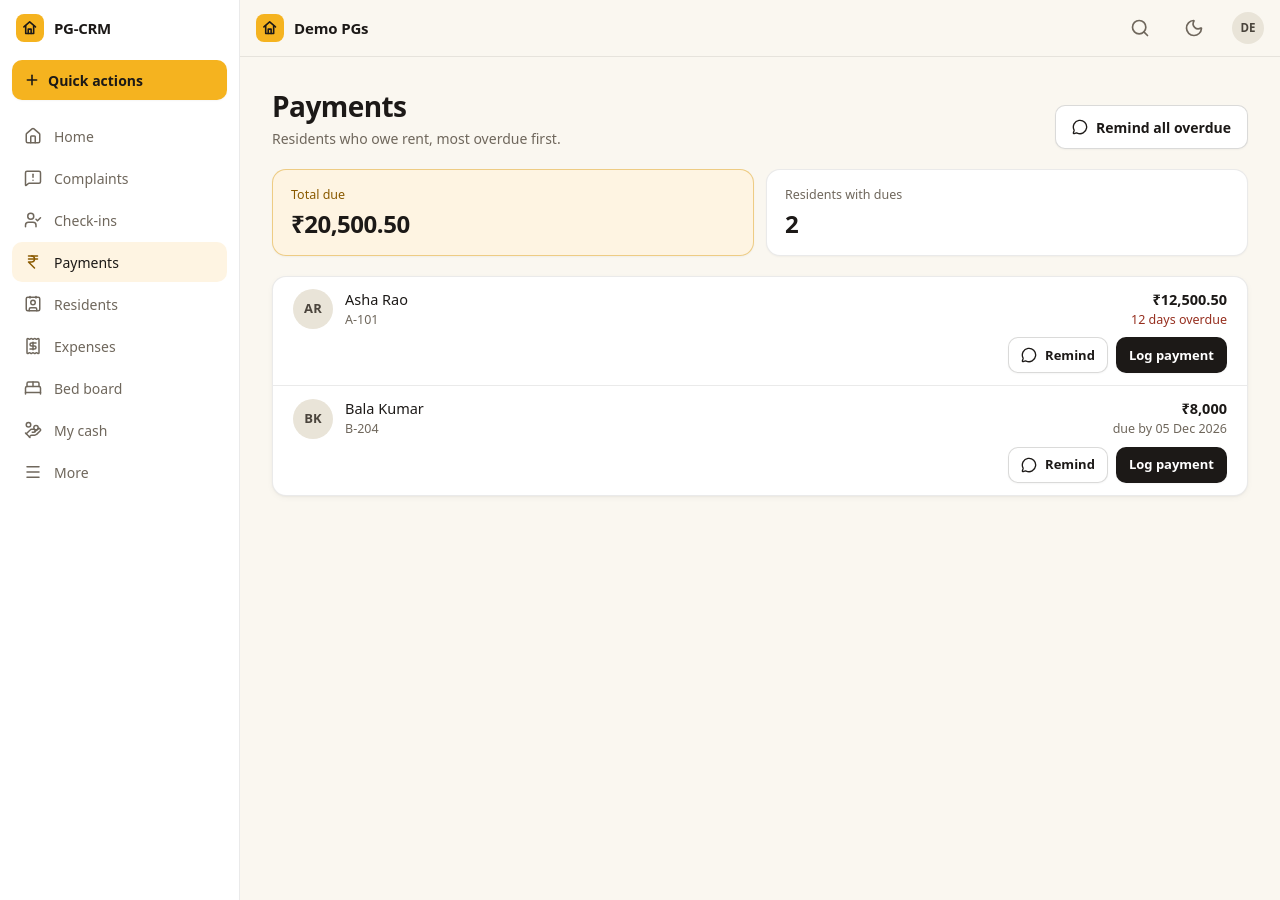
Rent reminders › [FE-33/AC2] Remind all overdue lists overdue residents and marks each as sent
Click the button "Remind all overdue": x=1152, y=127 [1055, 105, 1248, 149]
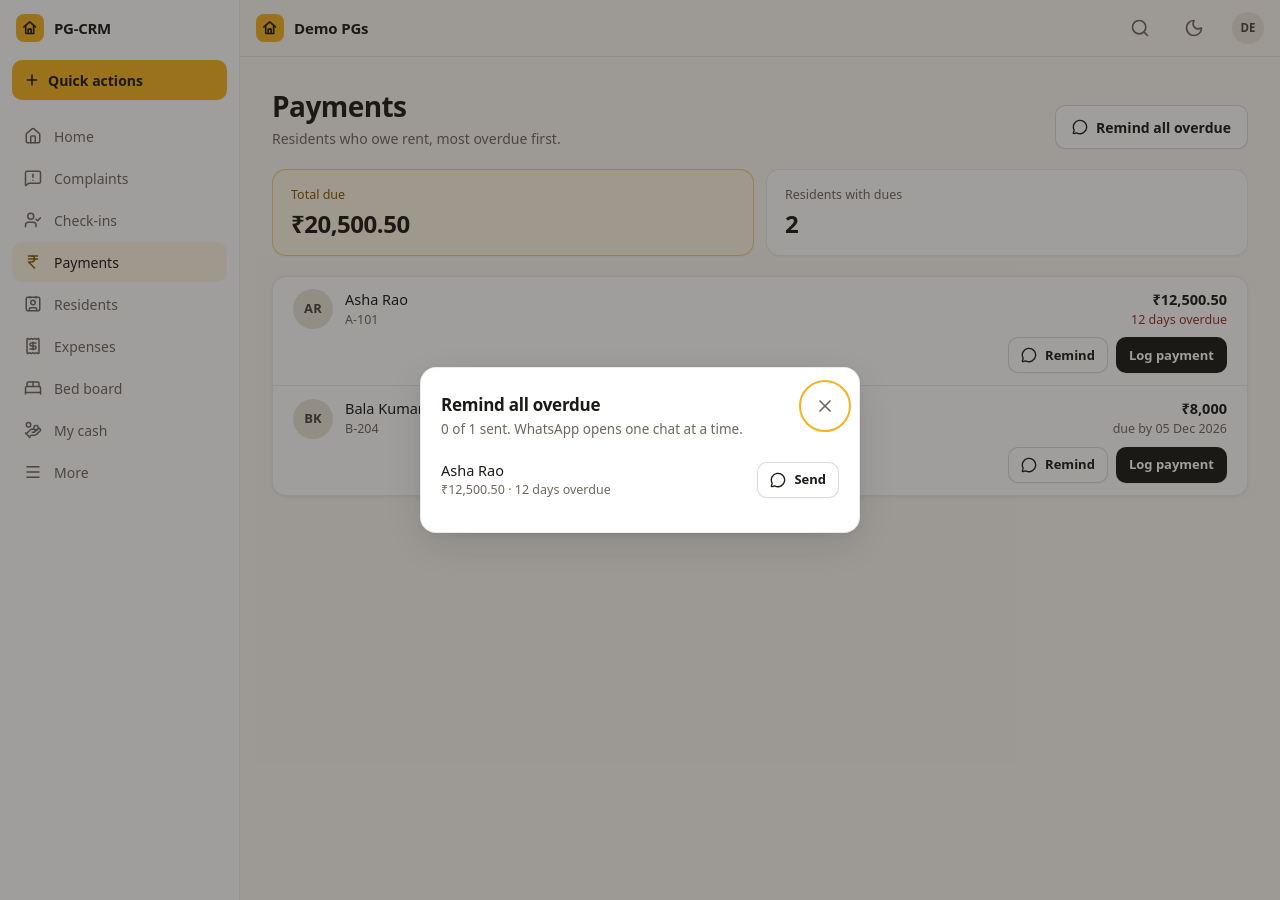
Result: the number of list items with test id "remind-row" is 1 at [421, 448, 859, 512]
Result: the text "Asha Rao" is shown at [441, 460, 504, 480]
Click the button with aria-label "Send reminder to Asha Rao": x=798, y=480 [757, 462, 839, 498]
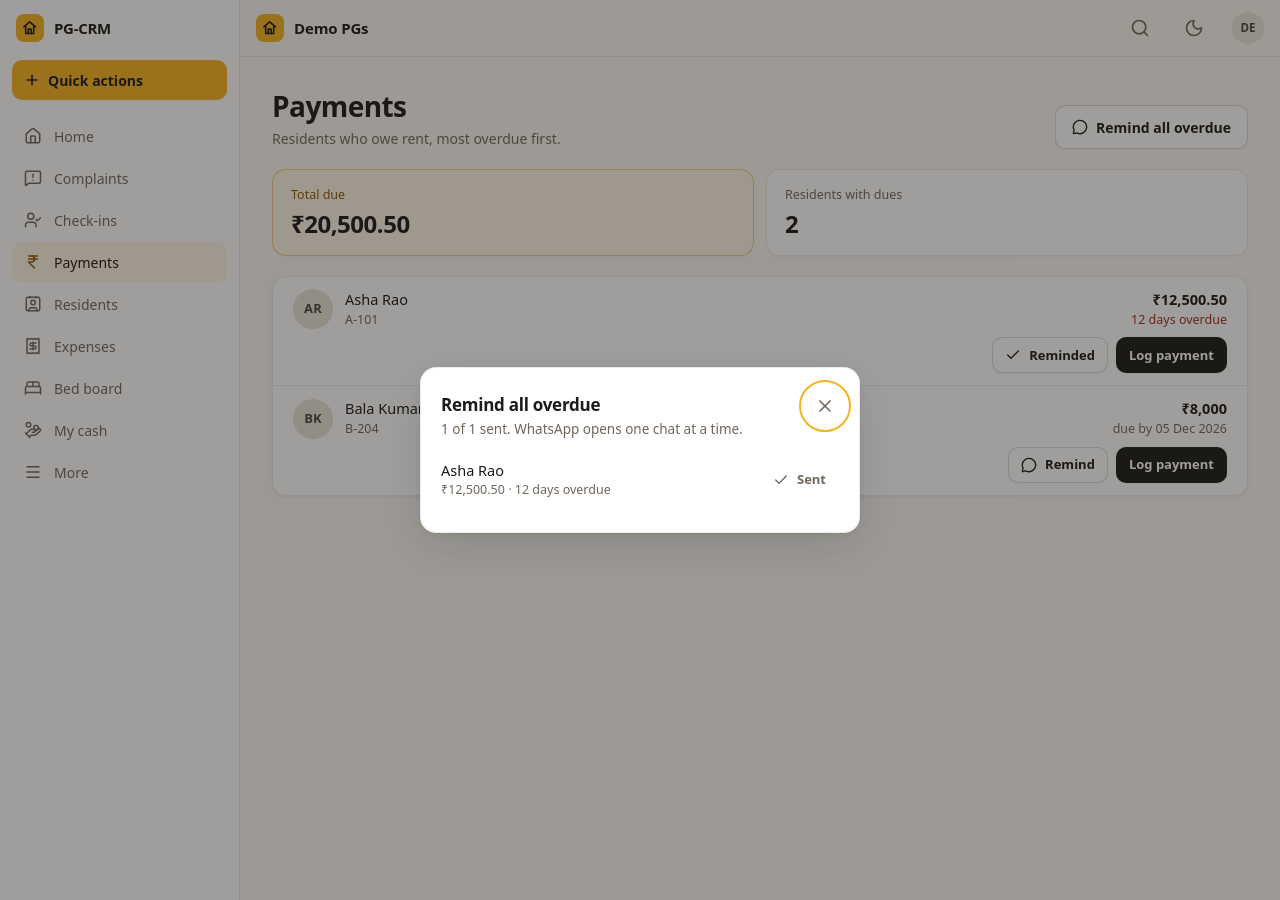
Result: the button "Sent" is shown at [760, 462, 839, 498]
Result: the text "1 of 1 sent. WhatsApp opens one chat at a time." is shown at [441, 419, 743, 440]
